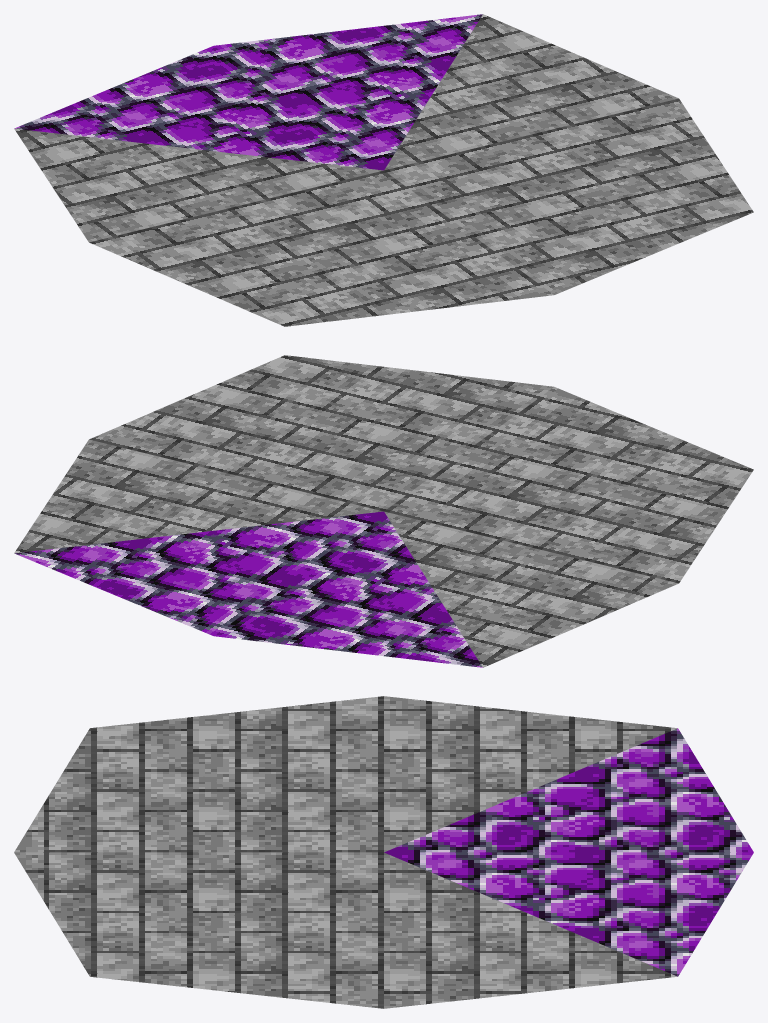
3 views of the same model, one above another, from view 1: azimuth 30°, elevation 25°; view 2: azimuth 150°, elevation 25°; view 3: azimuth 270°, elevation 25° (orthographic). The views are drawn at different scales.
Visible parts, largest first — view 1: Plane; view 2: Plane; view 3: Plane.
Part boxes in pixels (x1,y1,x2,y2): Plane: (14,14,753,326); Plane: (14,355,753,667); Plane: (14,696,753,1008).
Bounding box in the file's own units: 1233 × 0 × 1233.
2 materials, 2 textured.
